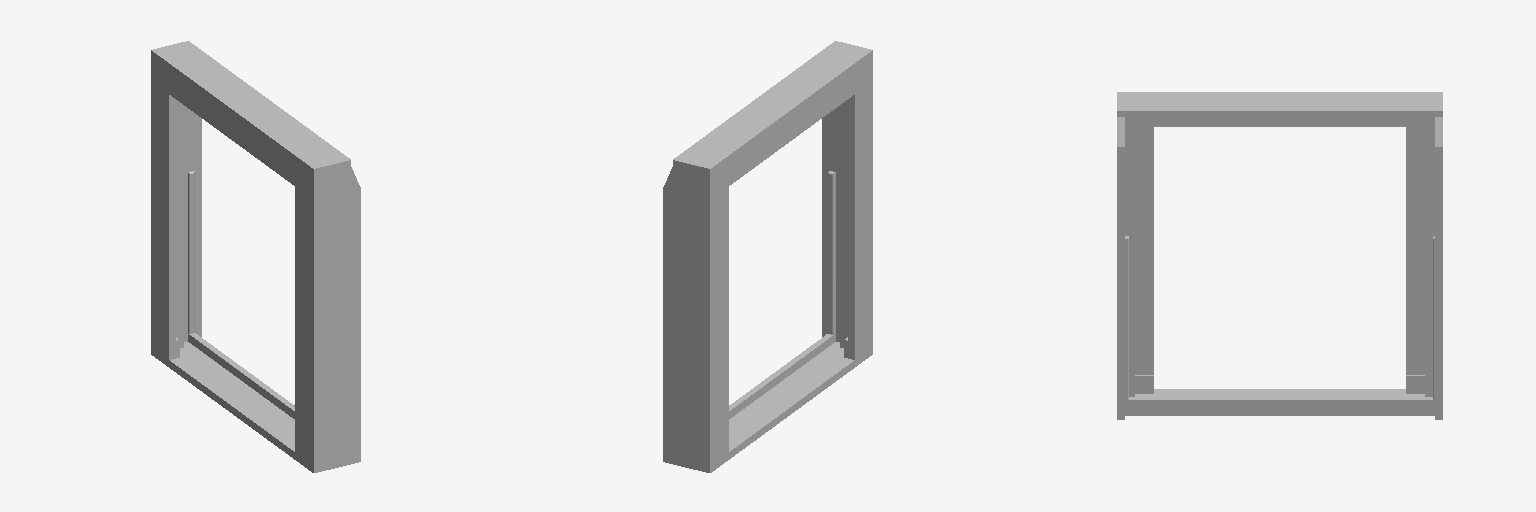
Rendered from Prints_led_cap.obj.
3 renders of one model, left to right at view 1: azimuth 30°, elevation 25°; view 2: azimuth 150°, elevation 25°; view 3: azimuth 270°, elevation 25°, orthographic.
Parts seen in each view (by area): view 1: led_cap; view 2: led_cap; view 3: led_cap.
Part boxes in pixels (x1,y1,x2,y2): led_cap: (151,41,360,472); led_cap: (663,41,872,472); led_cap: (1117,92,1442,419).
Size of the model in its own units: 0.0076 by 0.0467 by 0.0452.